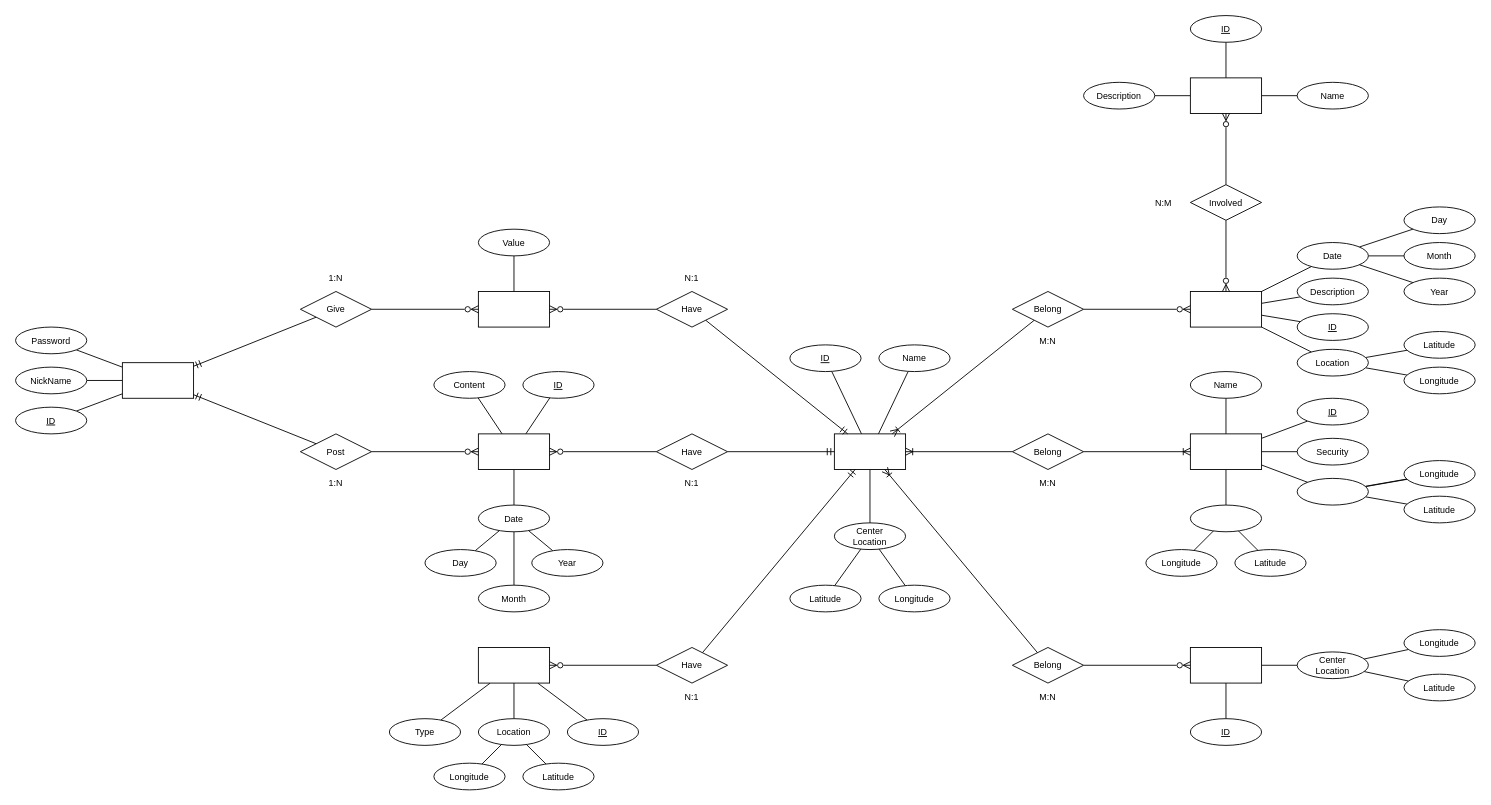
Some shapes in this 1491 by 805 pixel diagram are drawn without their labels. The shapes that lost their labels are listed below. From the top down, each one's box as (x1, y1, x2, y2) in pixels, then its label:
(1189, 77, 1262, 113): Criminal
(477, 291, 550, 327): Rating
(1189, 291, 1262, 327): Insident
(121, 362, 194, 398): User
(477, 433, 550, 469): Comment
(833, 433, 906, 469): District
(1189, 433, 1262, 469): Street
(1296, 477, 1368, 505): Start Location
(1189, 504, 1262, 532): End Location
(477, 647, 550, 683): Station
(1189, 647, 1262, 683): DangerArea
